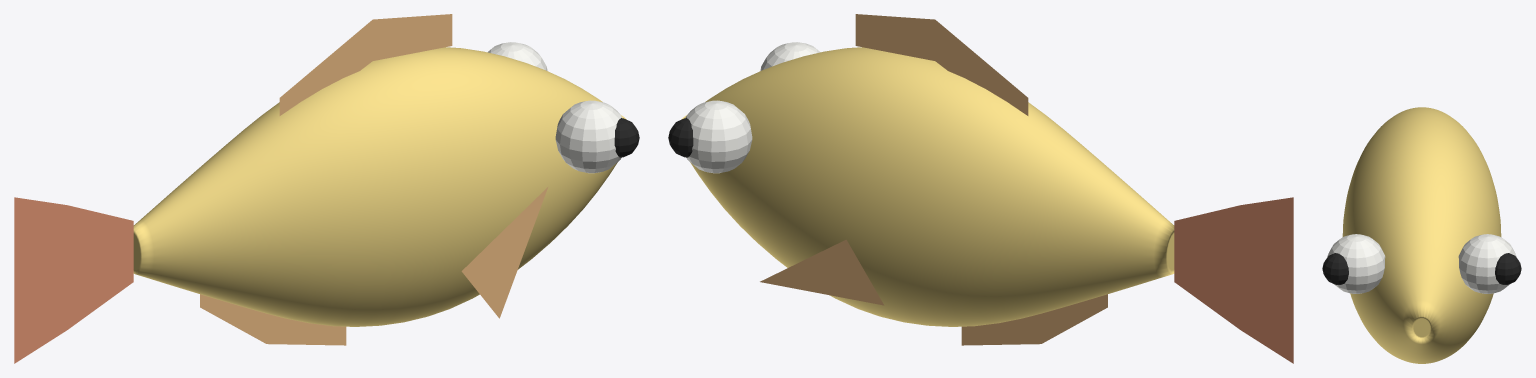
Rendered from platy.glb.
3 views of the same model, side by side, from view 1: azimuth 30°, elevation 25°; view 2: azimuth 150°, elevation 25°; view 3: azimuth 270°, elevation 25° (orthographic). The views are drawn at different scales.
Visible parts, largest first — view 1: platy_body, platy_tail, platy_dorsal, platy_eyew_R, platy_pec_R, platy_anal, platy_eyew_L, platy_eye_R; view 2: platy_body, platy_tail, platy_dorsal, platy_eyew_L, platy_pec_L, platy_anal, platy_eyew_R, platy_eye_L; view 3: platy_body, platy_eyew_L, platy_eyew_R, platy_eye_L, platy_eye_R.
Part boxes in pixels (x1,y1,x2,y2): platy_body: [133, 47, 626, 326]; platy_tail: [14, 197, 133, 363]; platy_dorsal: [279, 14, 452, 115]; platy_eyew_R: [555, 100, 622, 173]; platy_pec_R: [461, 187, 547, 318]; platy_anal: [200, 294, 346, 345]; platy_eyew_L: [488, 42, 547, 70]; platy_eye_R: [614, 118, 639, 157]; platy_body: [681, 47, 1174, 326]; platy_tail: [1174, 197, 1293, 363]; platy_dorsal: [855, 14, 1028, 115]; platy_eyew_L: [685, 100, 752, 173]; platy_pec_L: [760, 239, 884, 305]; platy_anal: [961, 294, 1107, 345]; platy_eyew_R: [760, 42, 819, 70]; platy_eye_L: [668, 118, 693, 157]; platy_body: [1342, 107, 1501, 363]; platy_eyew_L: [1458, 234, 1516, 293]; platy_eyew_R: [1327, 234, 1385, 293]; platy_eye_L: [1495, 253, 1521, 284]; platy_eye_R: [1322, 253, 1348, 284].
Size of the model in its own units: 0.46 by 0.23 by 0.158.
